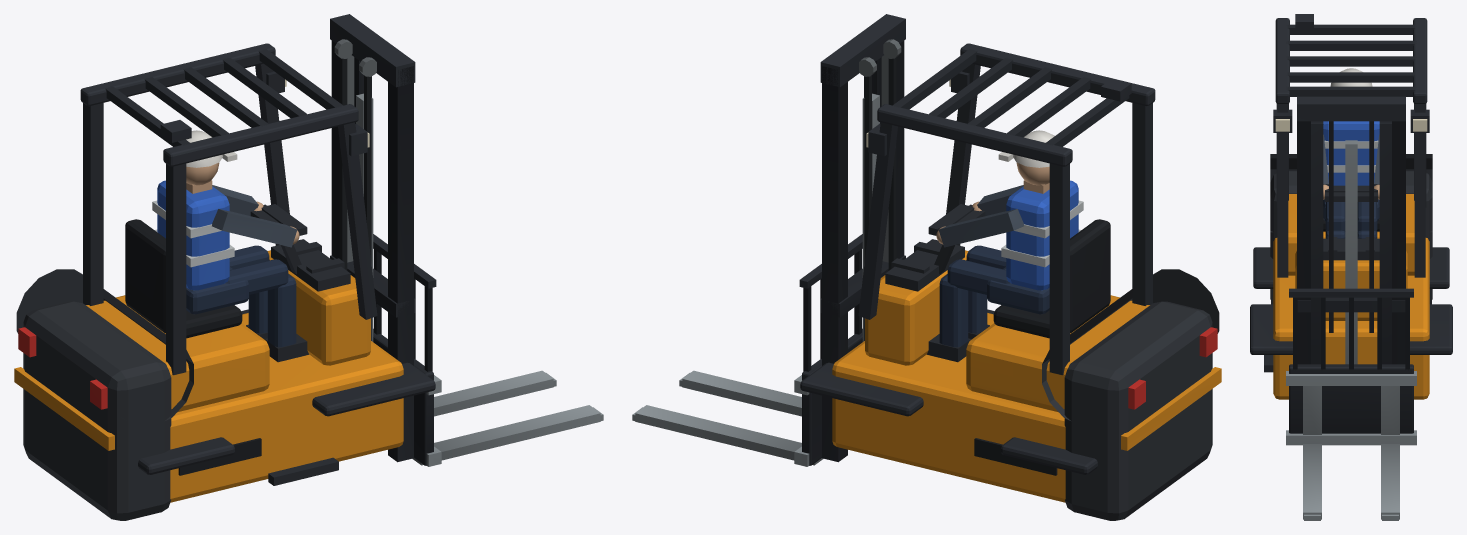
Rendered from montacargas-BqopW1sx.glb.
3 renders of one model, left to right at view 1: azimuth 30°, elevation 25°; view 2: azimuth 150°, elevation 25°; view 3: azimuth 270°, elevation 25°, orthographic. The views are drawn at different scales.
Visible parts, largest first — view 1: cuerpo, mastil, conductor, carro; view 2: cuerpo, mastil, conductor, carro; view 3: cuerpo, carro, mastil, conductor.
Boxes of the visible parts, x1=… form: cuerpo: x1=14, y1=43, x2=435, y2=520; mastil: x1=330, y1=14, x2=415, y2=462; conductor: x1=152, y1=130, x2=308, y2=362; carro: x1=354, y1=57, x2=603, y2=466; cuerpo: x1=800, y1=43, x2=1221, y2=520; mastil: x1=820, y1=14, x2=905, y2=462; conductor: x1=927, y1=130, x2=1083, y2=362; carro: x1=632, y1=57, x2=881, y2=466; cuerpo: x1=1250, y1=14, x2=1452, y2=399; carro: x1=1286, y1=121, x2=1416, y2=520; mastil: x1=1297, y1=96, x2=1405, y2=364; conductor: x1=1323, y1=68, x2=1379, y2=238.
Bounding box in the file's own units: 3.16 × 2.4 × 1.3.
